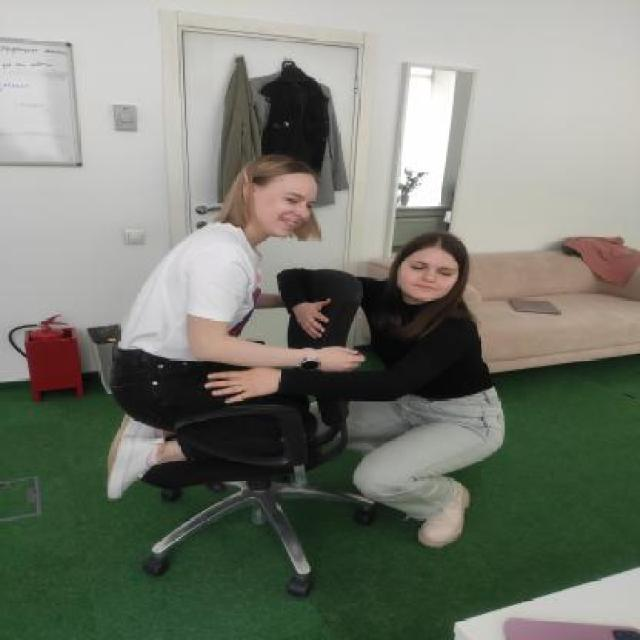chair: (121, 262, 384, 601)
